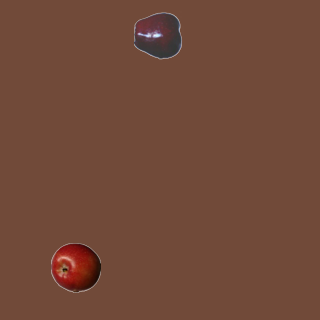Apple Braeburn: (50, 242, 100, 292)
Apple Red Delicious: (133, 10, 183, 60)
